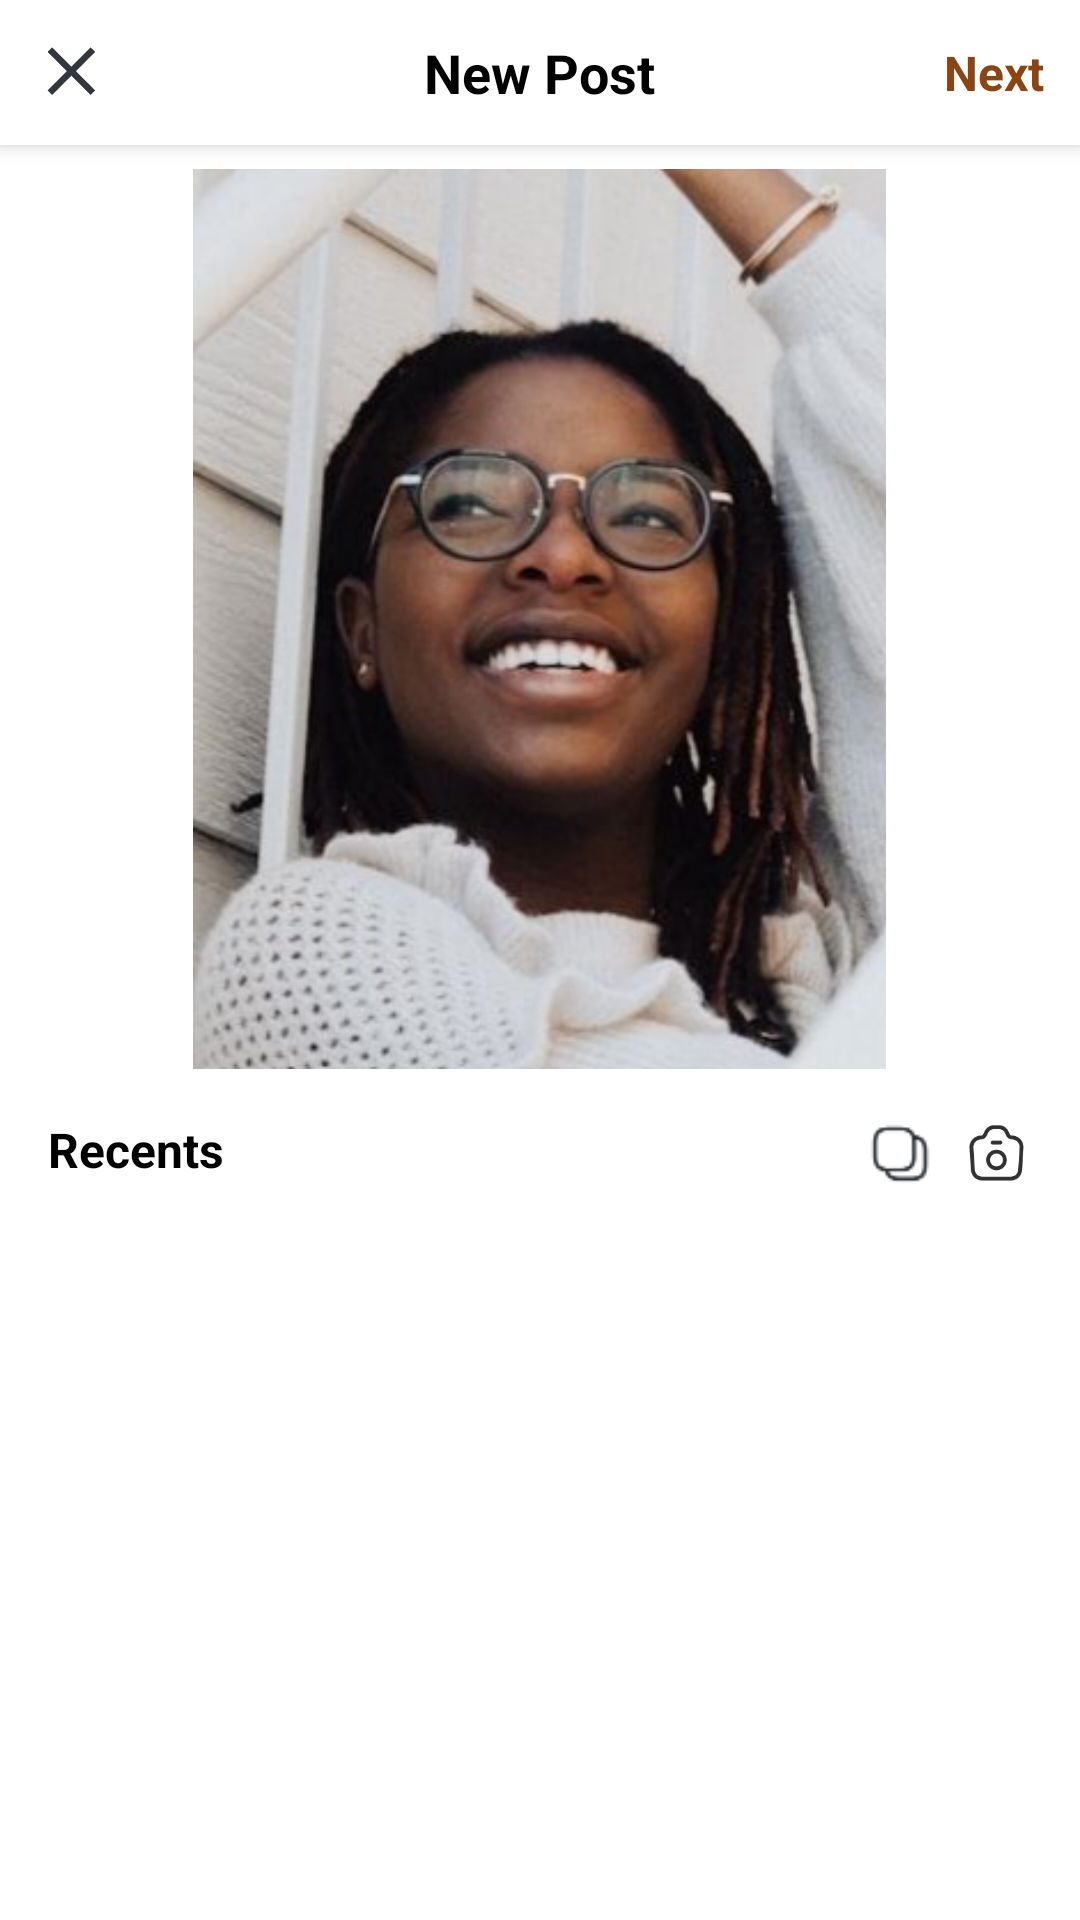

Icon bounding boxes for this 1080 × 1920 phone screenshot, format (x1, y1, x2, y2):
camera: (969, 1125, 1024, 1181)
close: (47, 47, 95, 95)
more post: (872, 1125, 929, 1182)
